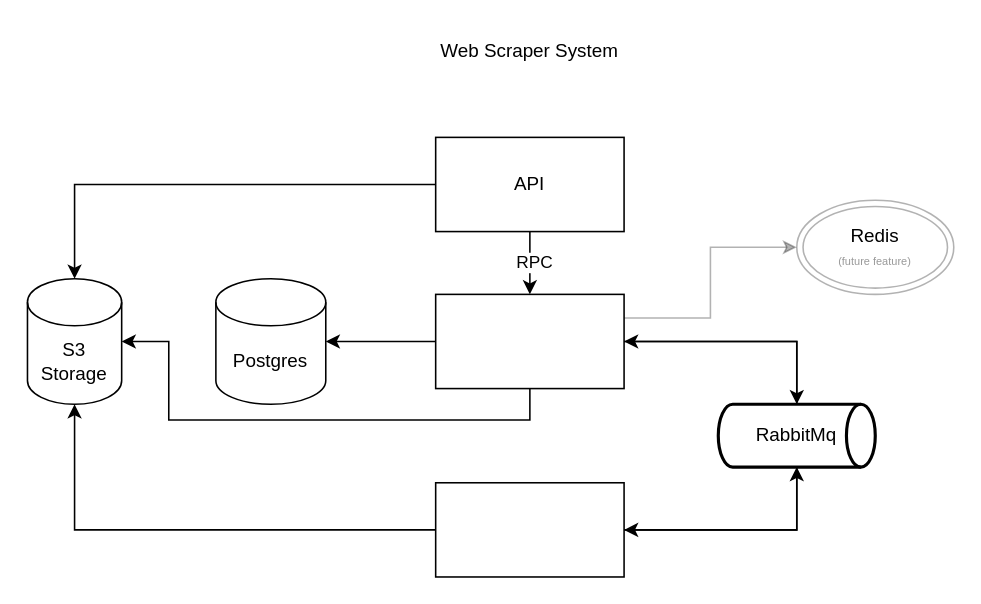
This 981x604 diagram has some shape labels left out. Each missing label, with the centre of its shape:
"Job Manager" belongs at [529,341].
"Scraper" belongs at [529,529].
